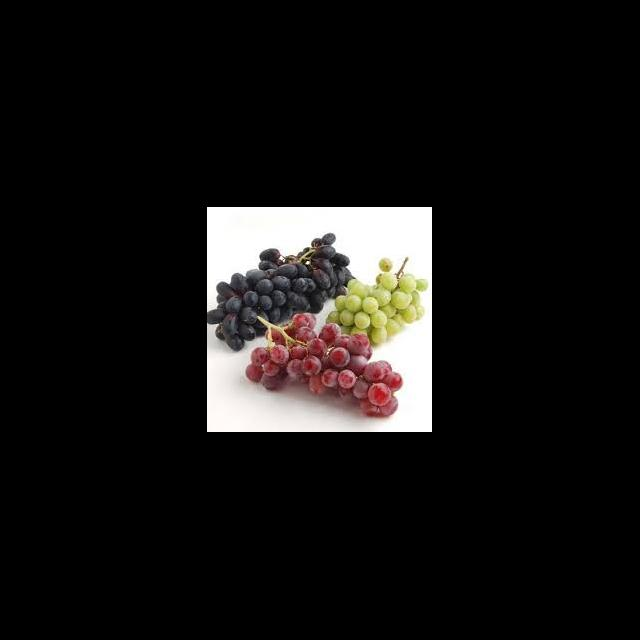grape: (208, 232, 356, 352), (246, 313, 404, 417), (326, 256, 428, 346)
